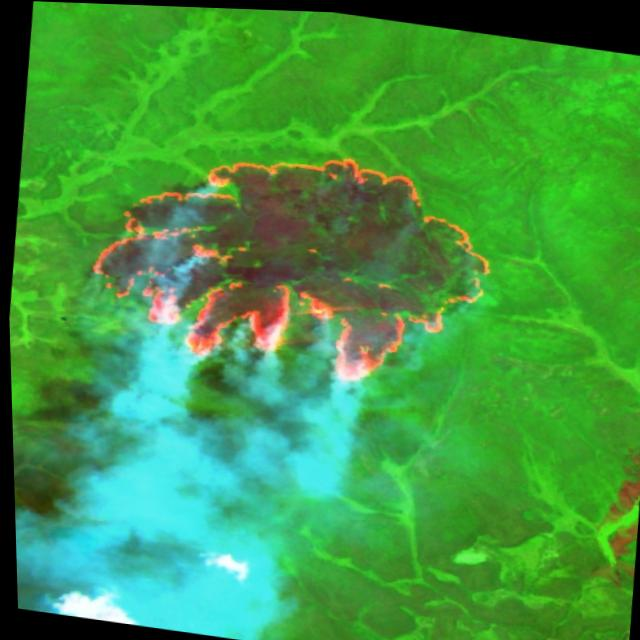fire: (67, 114, 509, 406)
